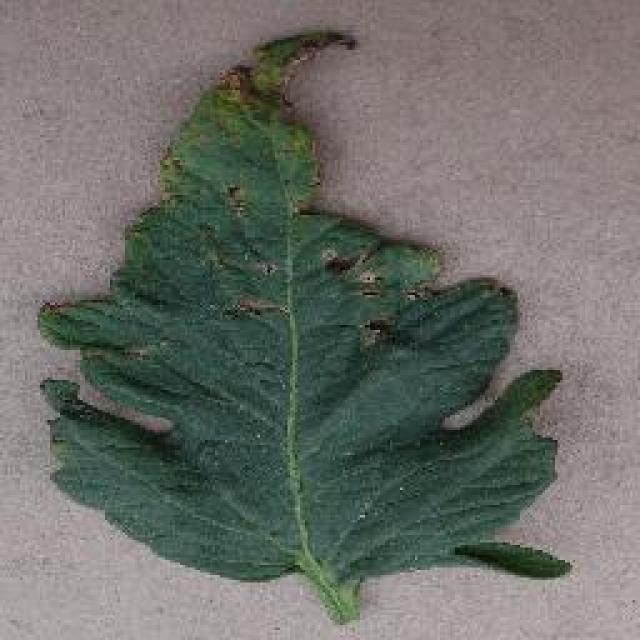Tomato bacterial spot leaf: (33, 25, 570, 595)
